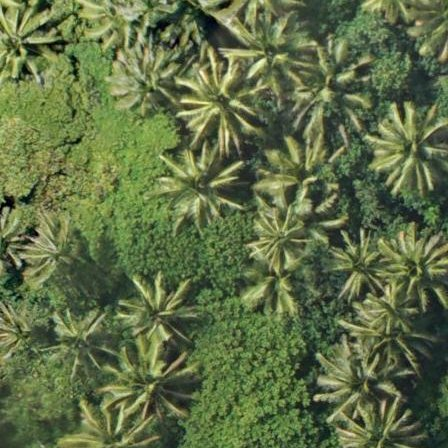palm_tree: (254, 127, 346, 224), (104, 39, 185, 126), (371, 103, 448, 191), (116, 270, 195, 355), (177, 56, 255, 139), (317, 341, 400, 419), (105, 350, 190, 426), (160, 144, 236, 226), (378, 224, 448, 310), (234, 13, 309, 87), (1, 1, 58, 80), (246, 202, 311, 271), (326, 232, 389, 299)
